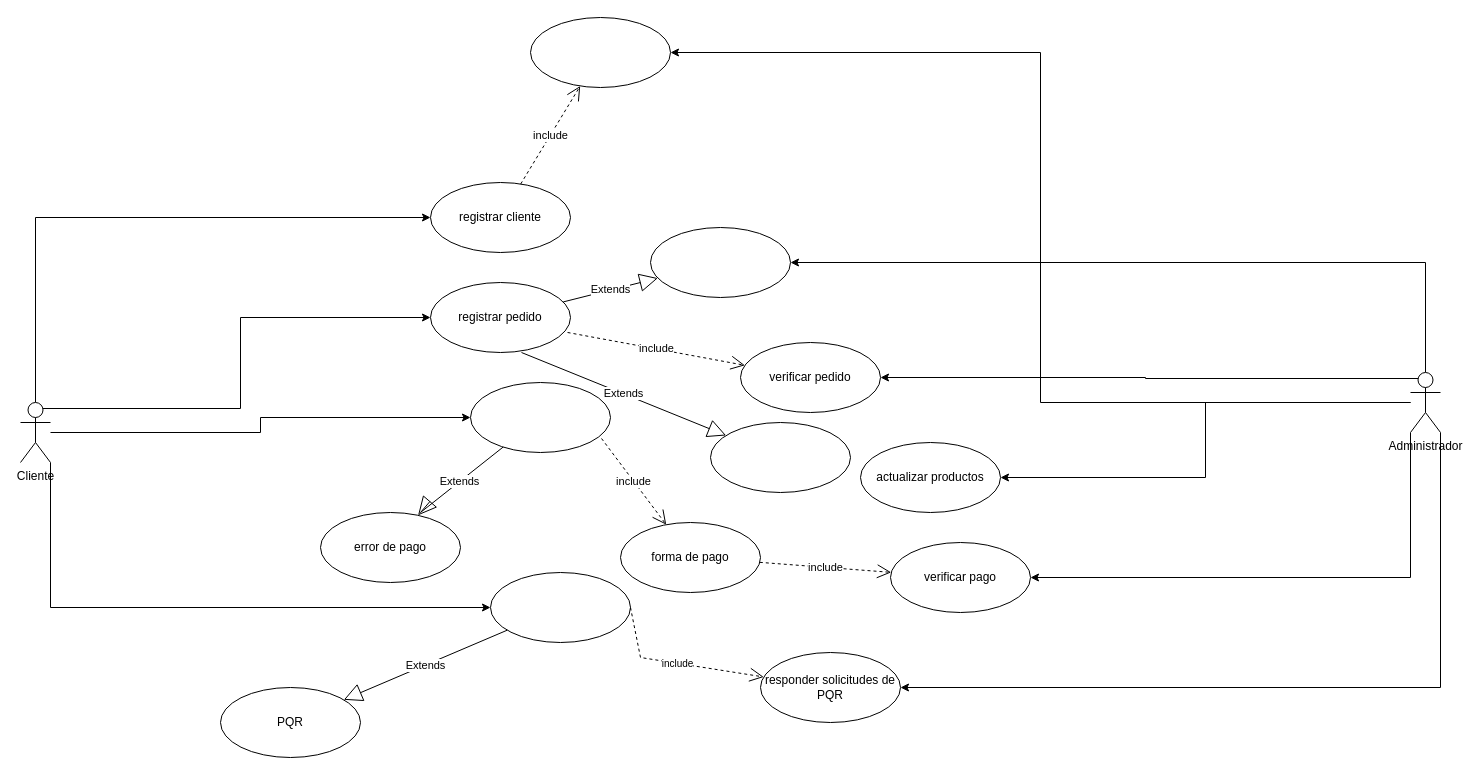
Some shapes in this 1480 by 775 pixel diagram are drawn without their labels. The centre of each missing label's shape, as x and y in pixels:
"balance de pedidos del dia" belongs at (720,262).
"error del pedido" belongs at (780,457).
"registrar comentario" belongs at (560,607).
"registrar pago" belongs at (540,417).
"validar usuario" belongs at (600,52).
